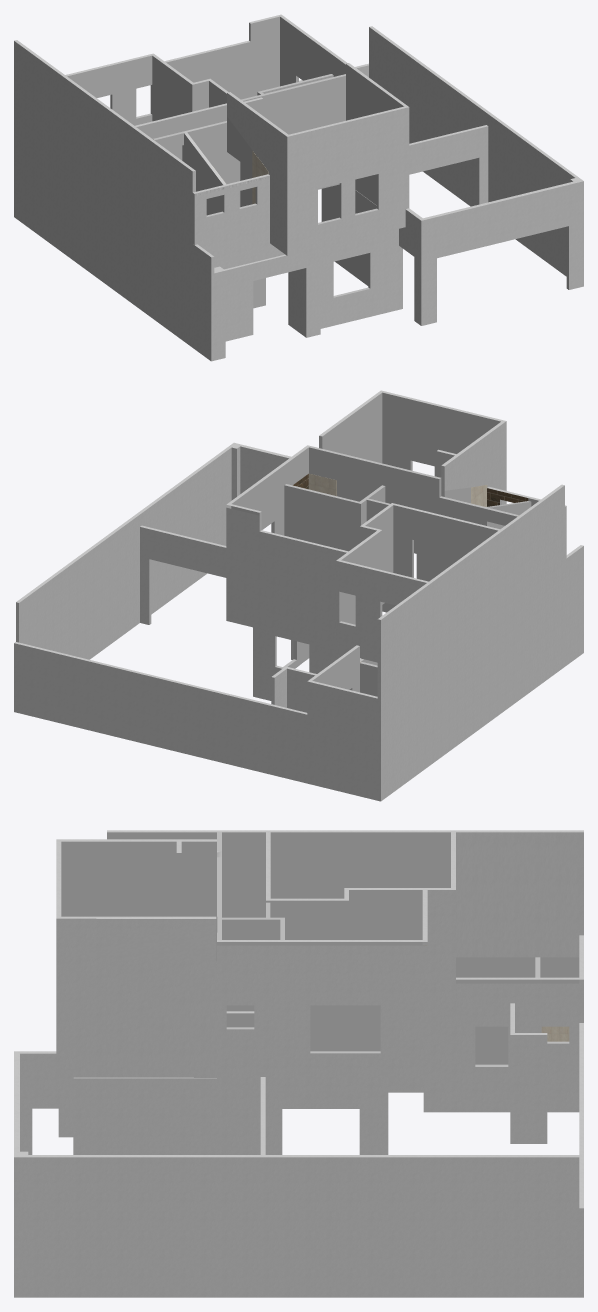
The model's file is arq_muros.FBX.
The picture shows the model from 3 angles, top to bottom: view 1: azimuth 30°, elevation 25°; view 2: azimuth 150°, elevation 25°; view 3: azimuth 270°, elevation 25°; orthographic projection. The views are drawn at different scales.
Parts seen in each view (by area): view 1: arq_muros; view 2: arq_muros; view 3: arq_muros.
Boxes of the visible parts, x1,y1,x2,y2 form: arq_muros: (14, 14, 583, 361); arq_muros: (14, 390, 583, 801); arq_muros: (14, 830, 583, 1297).
Bounding box in the file's own units: 13.15 × 7.28 × 13.65.
5 materials, 4 textured.
